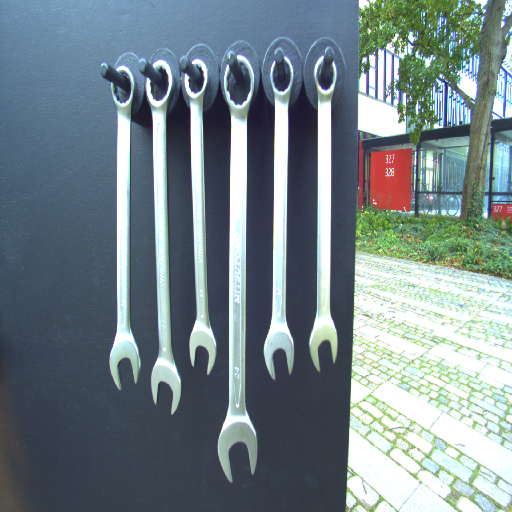bottom: (216, 410, 260, 485), (260, 319, 296, 383), (150, 356, 184, 419), (107, 335, 143, 392), (308, 311, 339, 373), (186, 318, 218, 378)
top: (222, 51, 257, 118), (144, 57, 173, 115), (310, 53, 340, 103), (108, 62, 137, 110), (181, 58, 210, 104), (268, 54, 295, 101)
